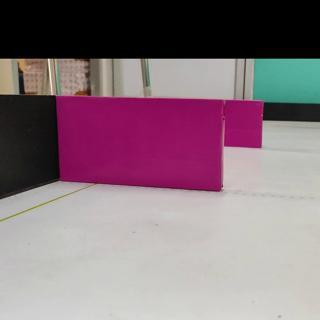xparking: (62, 101, 222, 187), (227, 101, 261, 147)
